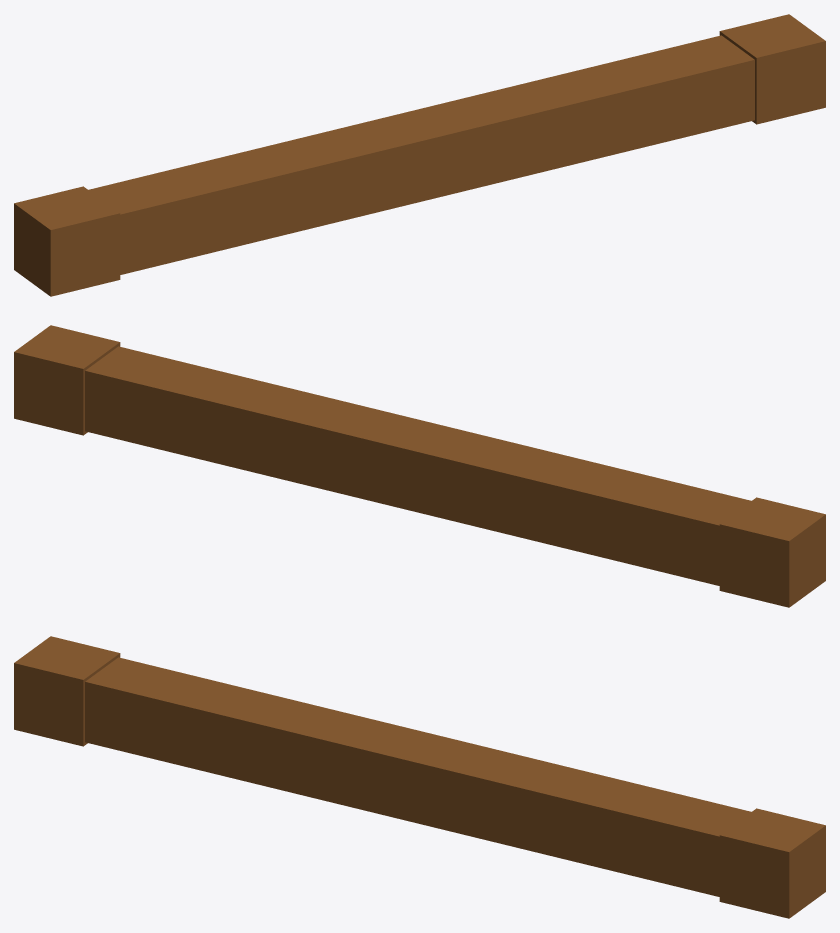
File: stretcher.glb
3 views of the same model, one above another, from view 1: azimuth 30°, elevation 25°; view 2: azimuth 150°, elevation 25°; view 3: azimuth 330°, elevation 25° (orthographic).
Bounding box in the file's own units: 0.67 × 0.055 × 0.055.
